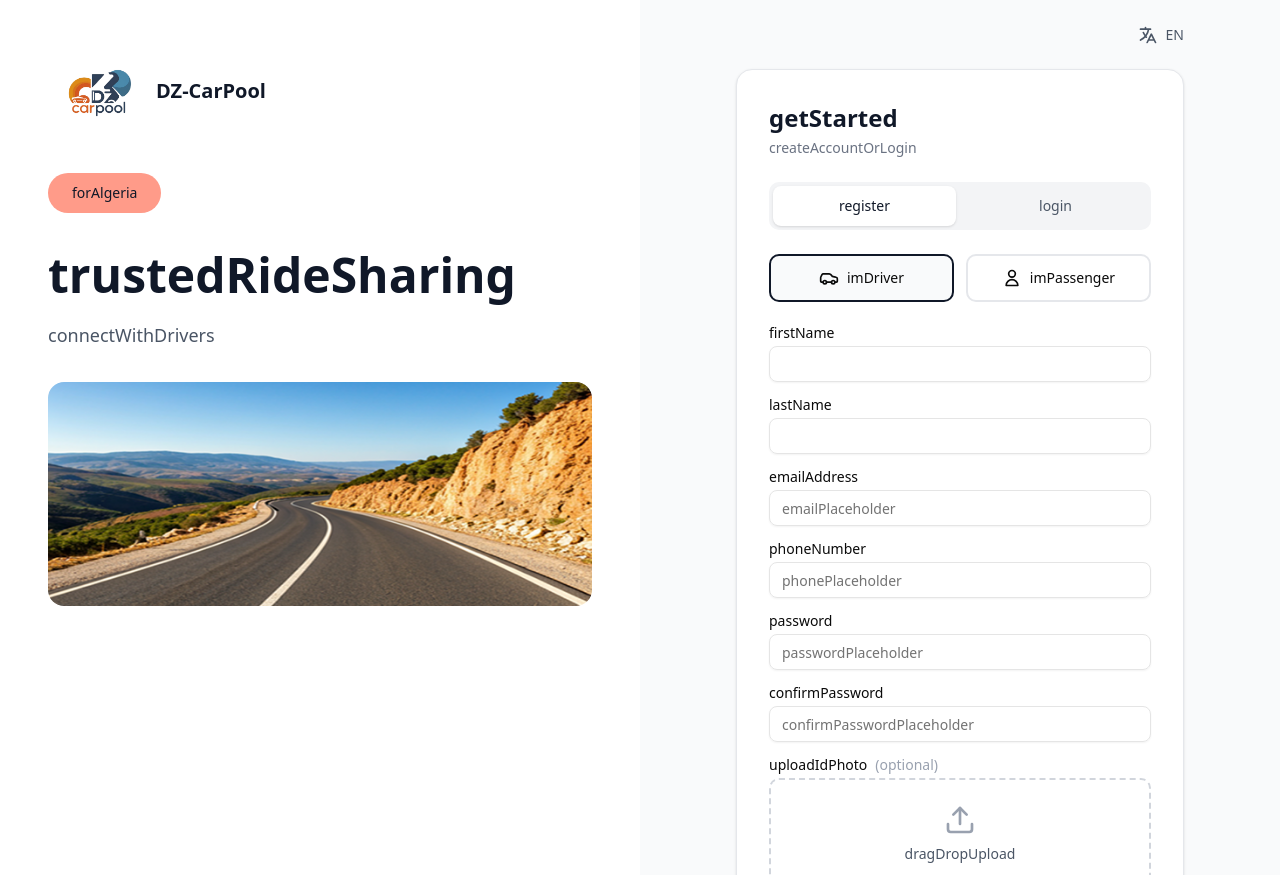
SignupPage › displays error message on registration failure
Step 1. Type "John" into the field labelled "firstName" → (960, 364), box [769,346,1151,382]
Step 2. Type "Doe" into the field labelled "lastName" → (960, 436), box [769,418,1151,454]
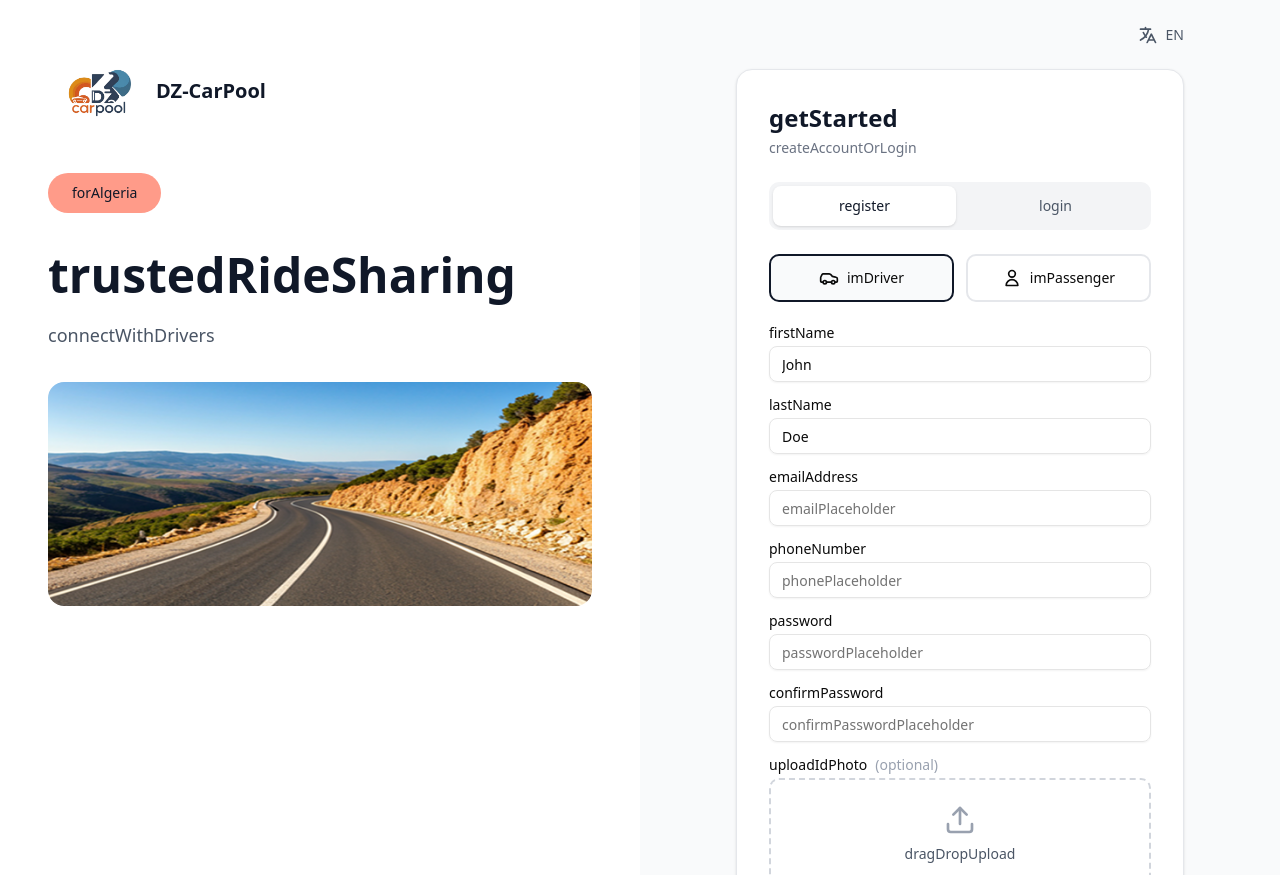
Step 3. Type "john@example.com" into the field labelled "emailAddress" → (960, 508), box [769,490,1151,526]
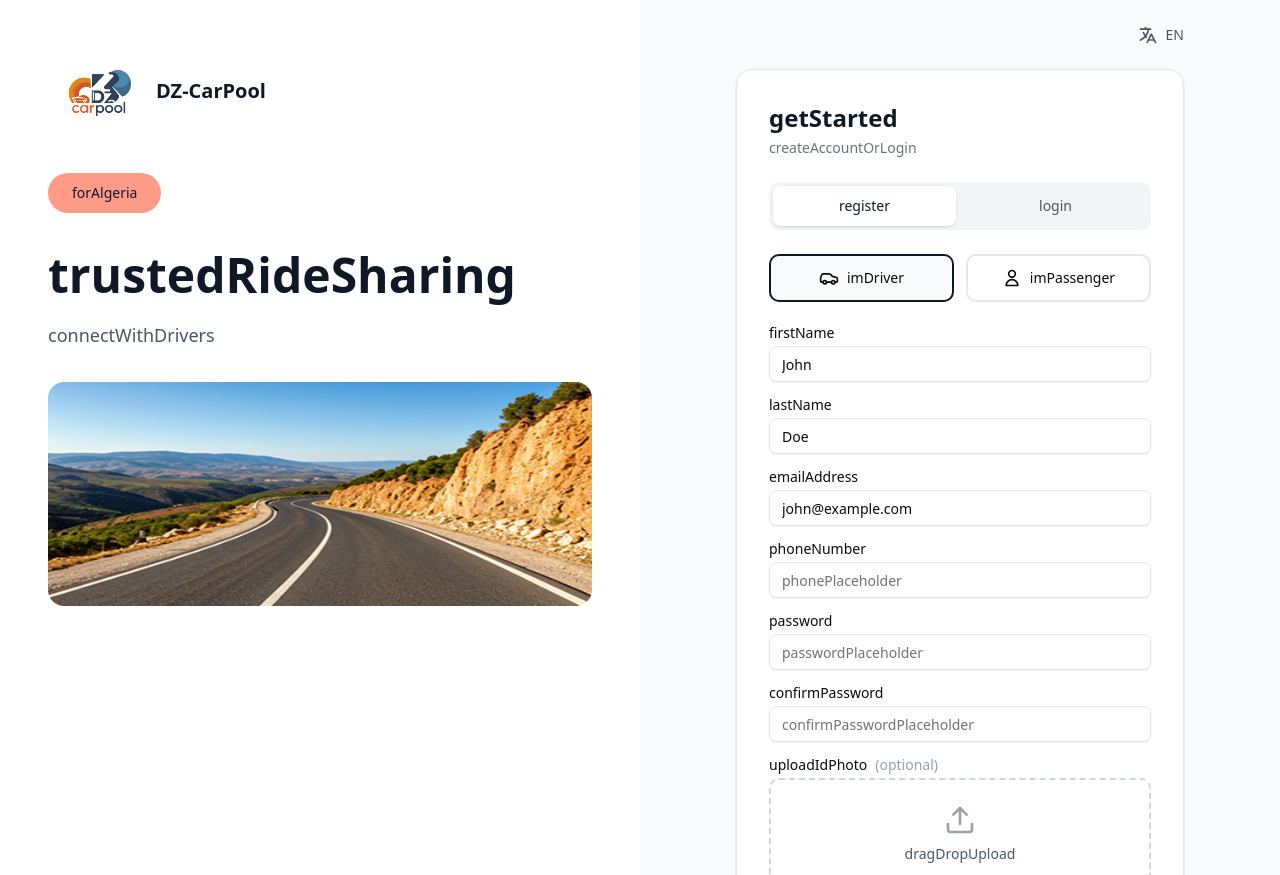
Step 4. Type "+213555000000" into the field labelled "phoneNumber" → (960, 580), box [769,562,1151,598]
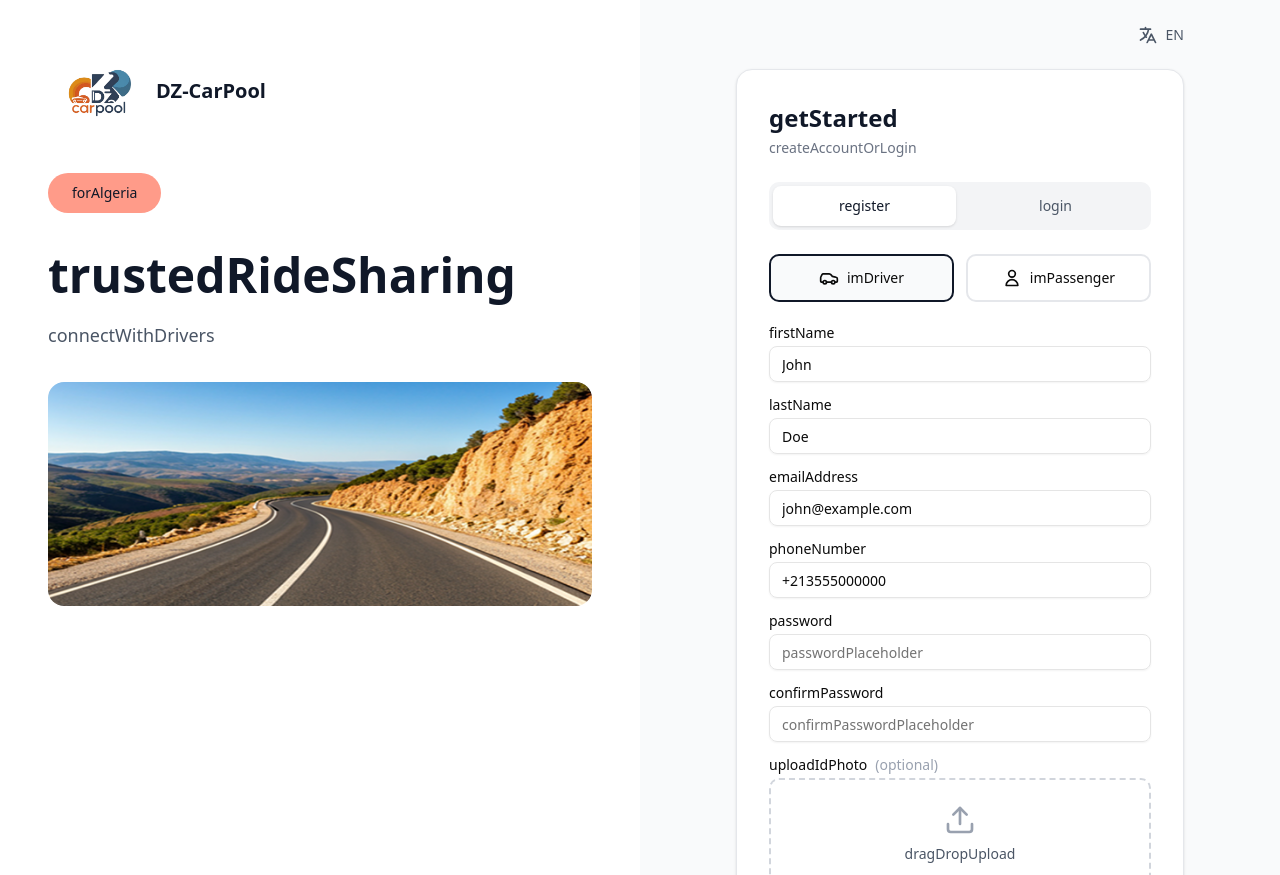
Step 5. Type "password123" into the password field labelled "password" → (960, 652), box [769,634,1151,670]
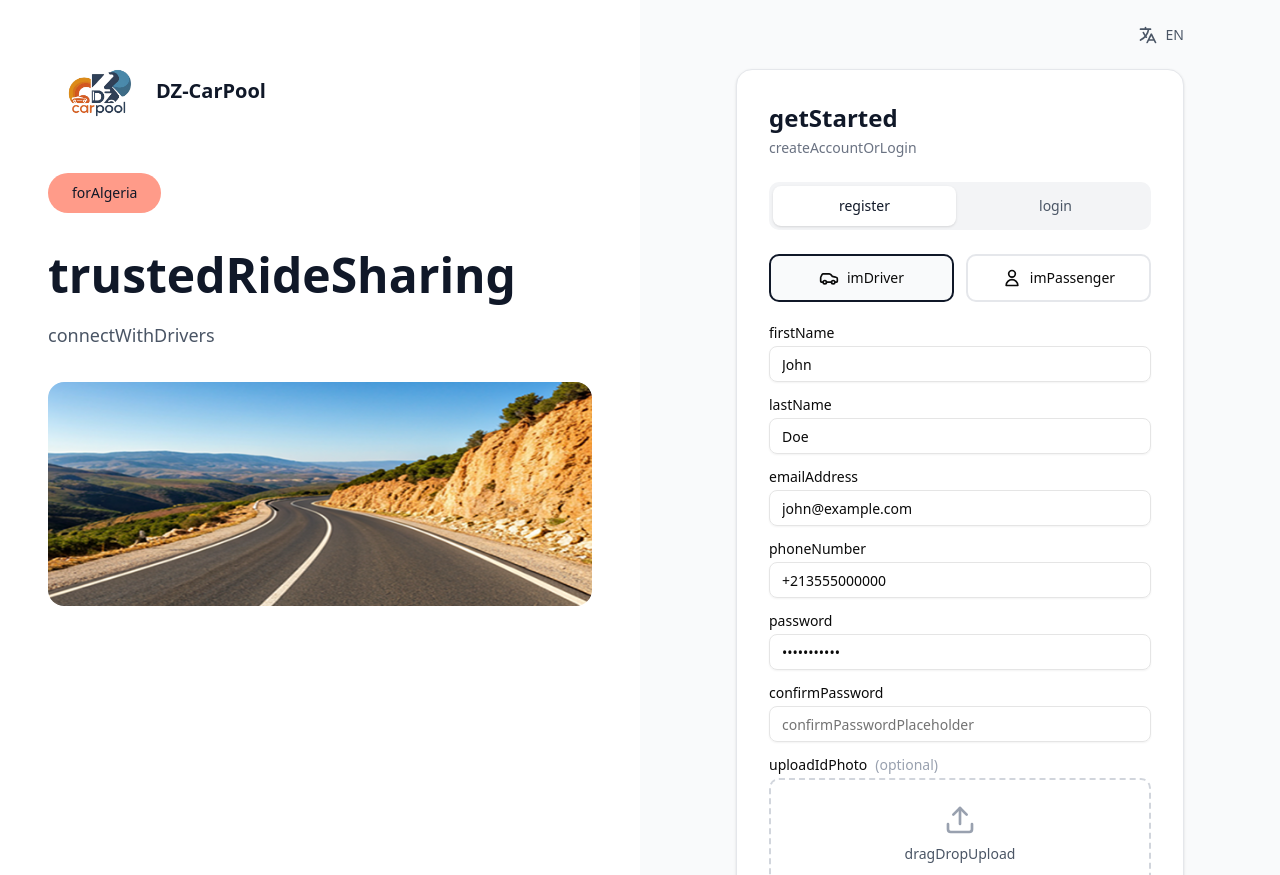
Step 6. Type "password123" into the password field labelled "confirmPassword" → (960, 724), box [769,706,1151,742]
(page scrolled)
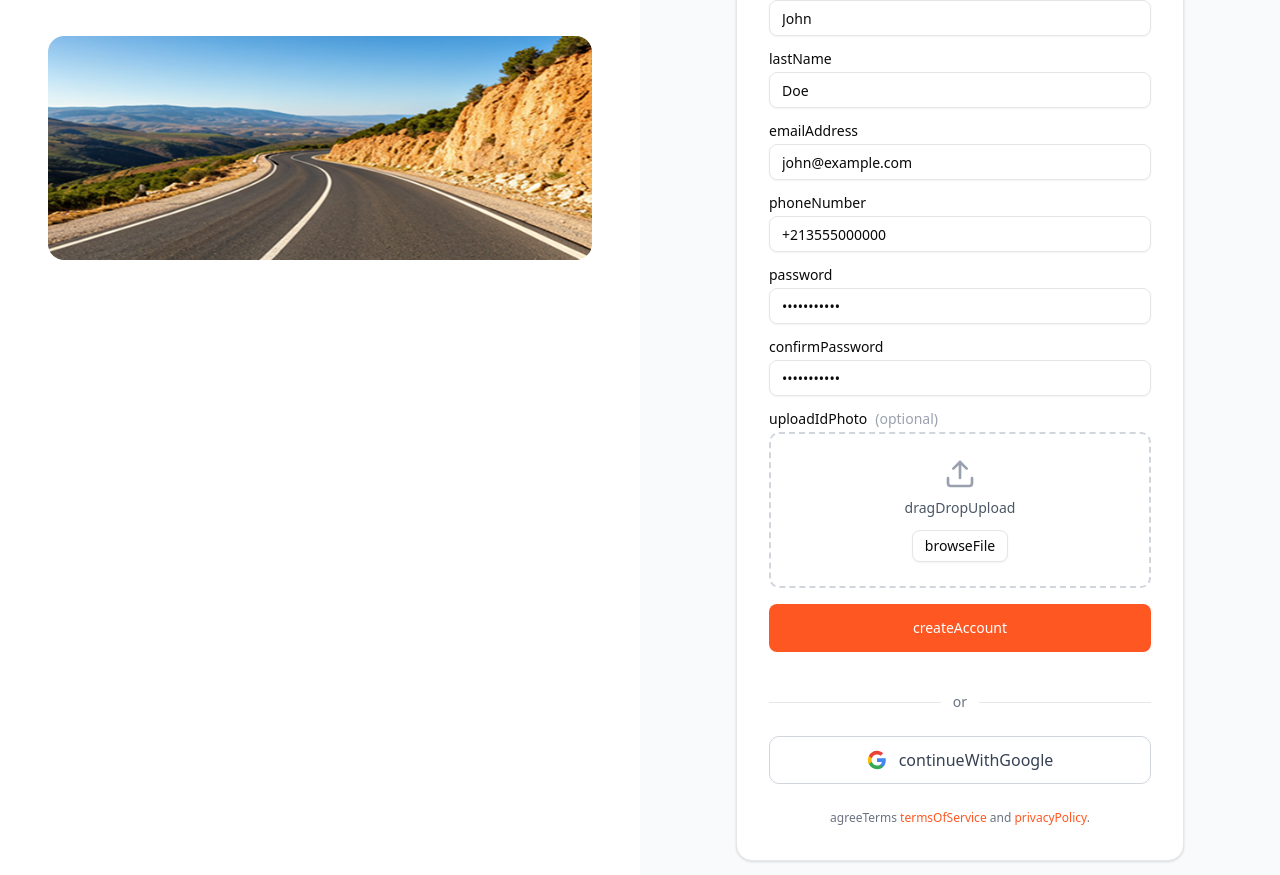
Step 7. Click the button "createAccount" → (960, 628), box [769,604,1151,652]
(page scrolled)
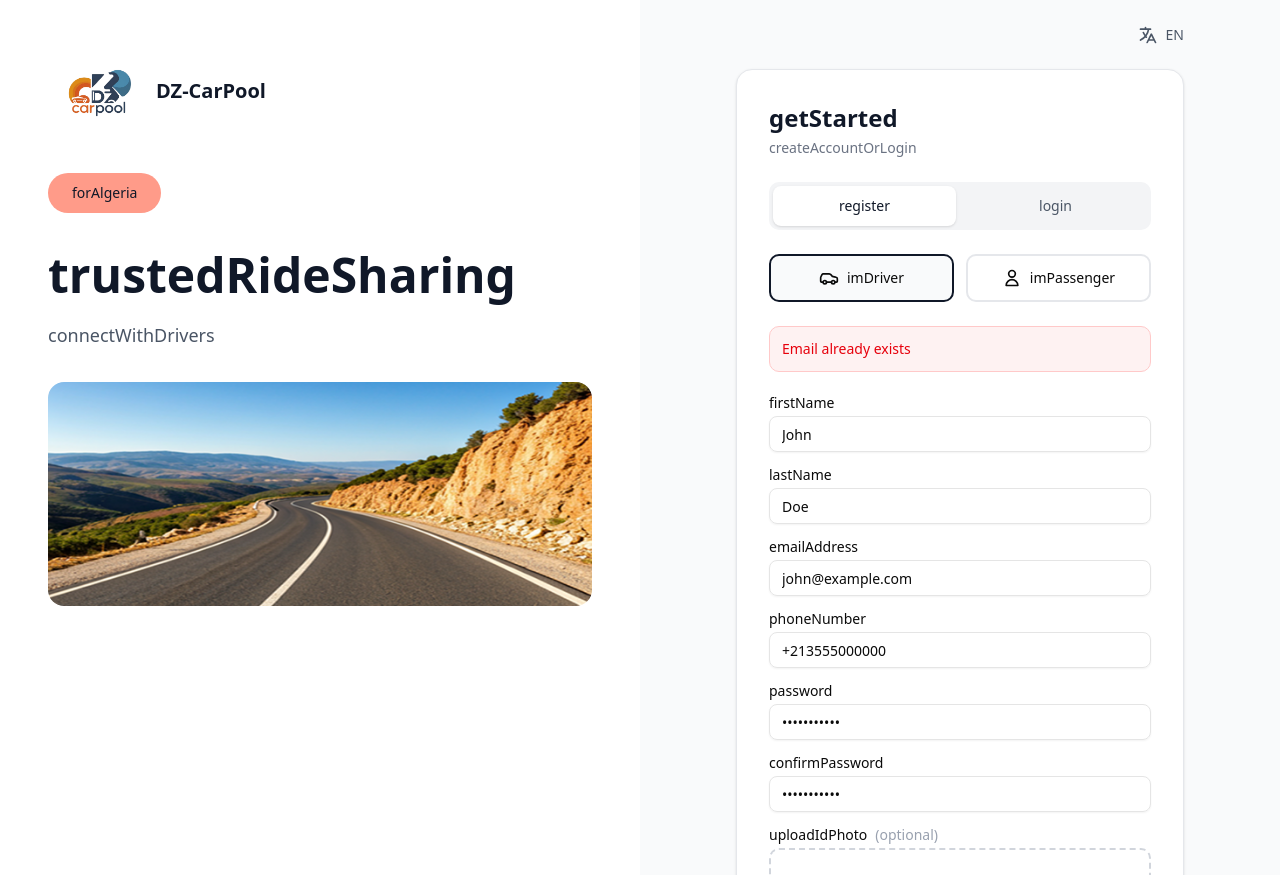
Now the text "Email already exists" is shown, box [769,326,1151,372]
